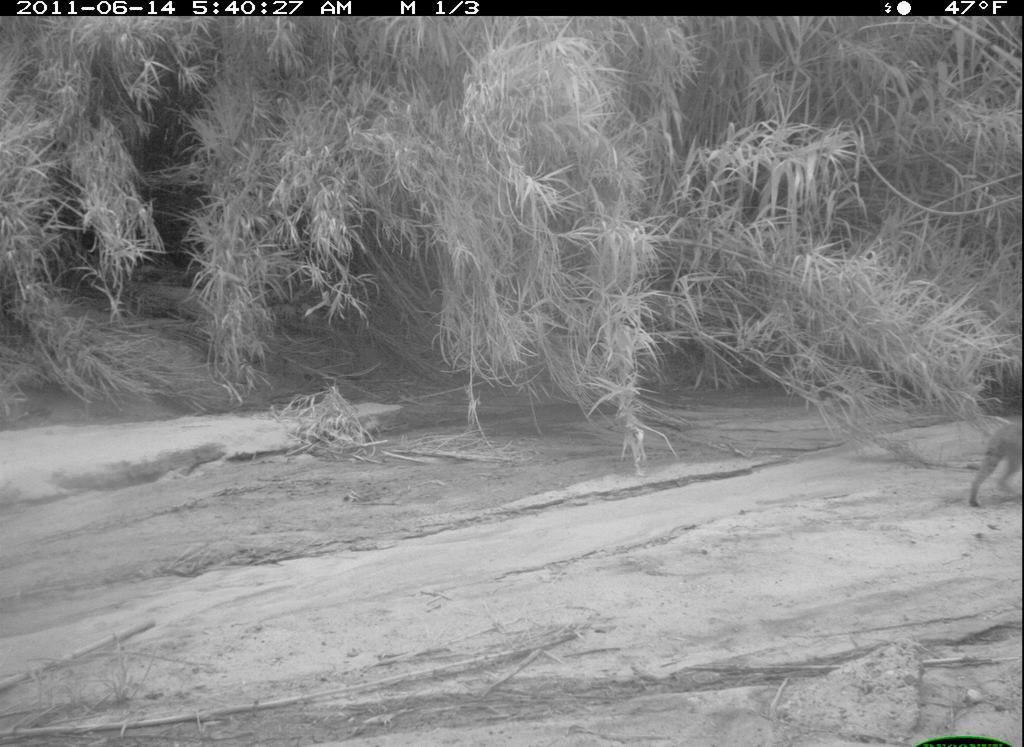bobcat: (966, 413, 1022, 515)
